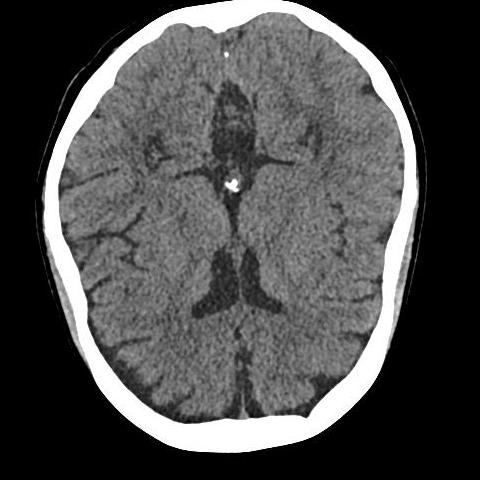Normal_Brain: (22, 5, 463, 479)
